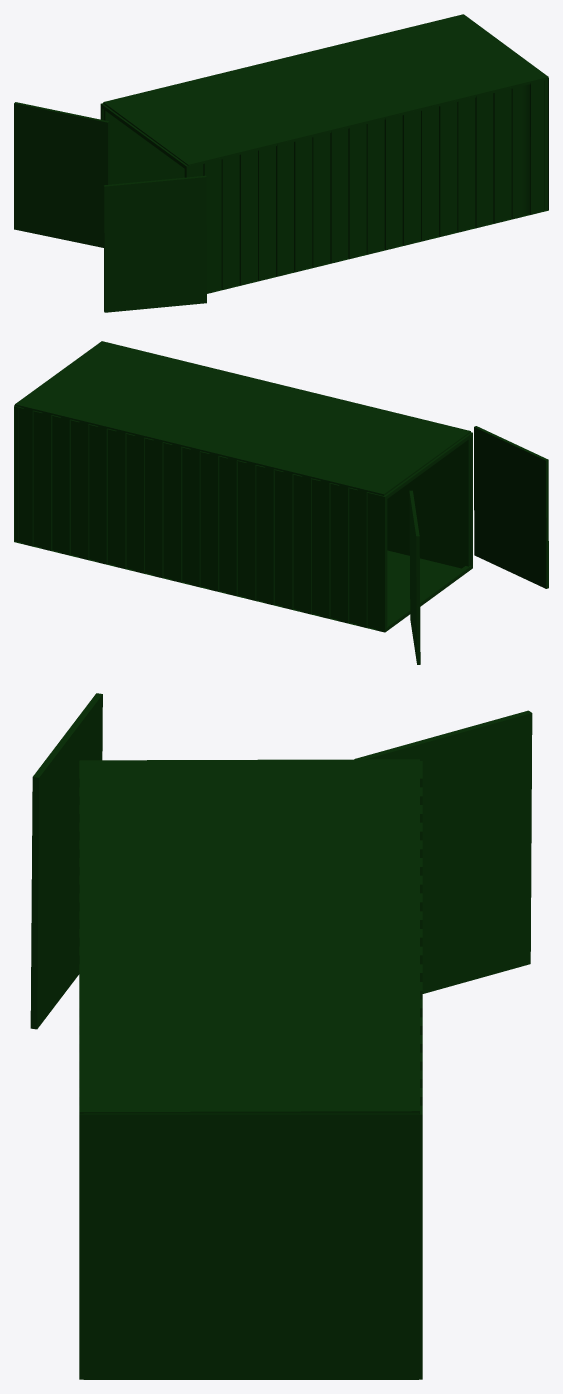
File: container-green1.FBX
3 renders of one model, top to bottom at view 1: azimuth 30°, elevation 25°; view 2: azimuth 150°, elevation 25°; view 3: azimuth 270°, elevation 25°, orthographic. The views are drawn at different scales.
Parts seen in each view (by area): view 1: Box002, Box010, Box003, Box004, Box007, Box009; view 2: Box002, Box010, Box003, Box008, Plane001, Box004, Box009; view 3: Box010, Box009, Box004, Box003, Box002.
Part boxes in pixels (left/top/right/bottom): Box002: left=100, top=78, right=548, bottom=293; Box010: left=103, top=14, right=548, bottom=165; Box003: left=103, top=175, right=206, bottom=312; Box004: left=14, top=102, right=109, bottom=247; Box007: left=103, top=110, right=184, bottom=184; Box009: left=544, top=80, right=547, bottom=210; Box002: left=14, top=406, right=472, bottom=632; Box010: left=15, top=341, right=470, bottom=495; Box003: left=474, top=426, right=548, bottom=588; Box008: left=387, top=438, right=470, bottom=568; Plane001: left=39, top=547, right=461, bottom=629; Box004: left=409, top=490, right=420, bottom=664; Box009: left=14, top=405, right=18, bottom=541; Box010: left=79, top=759, right=419, bottom=1114; Box009: left=83, top=1113, right=418, bottom=1379; Box004: left=354, top=710, right=532, bottom=993; Box003: left=30, top=693, right=102, bottom=1029; Box002: left=79, top=761, right=422, bottom=1379.
Size of the model in its own units: 140 by 40.74 by 69.06.
